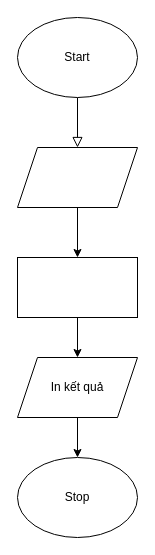
The diagram is 155 pixels wide and 555 high, and some of its shapes have lost their labels. The centre of each missing label's shape, as x and y in pixels:
"a+b" belongs at (77,287).
"Input a,b" belongs at (77,177).
